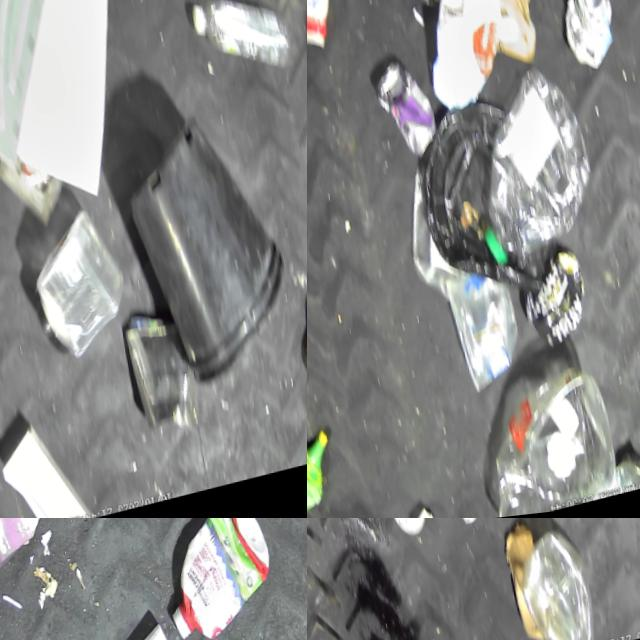can: (115, 314, 196, 453), (364, 54, 440, 173), (552, 0, 622, 93), (181, 0, 307, 20), (376, 518, 425, 543)
non_white_jug: (145, 518, 278, 640)
plastic_bottle: (447, 63, 606, 293), (502, 525, 594, 640), (186, 0, 291, 100)
